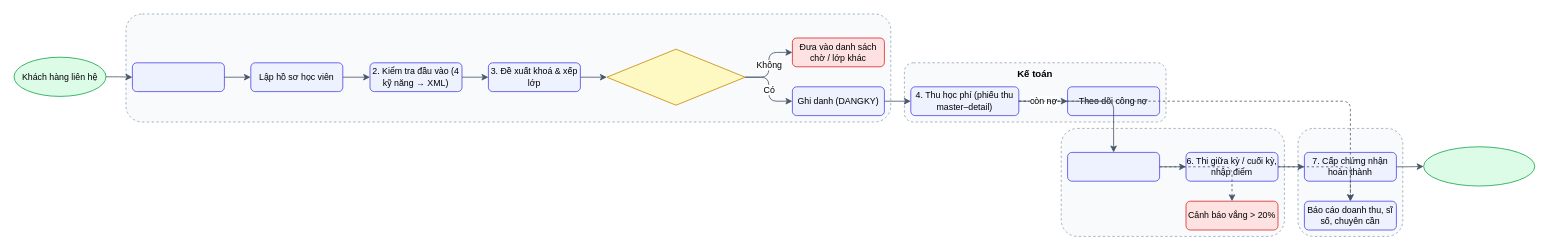
The diagram is 1549 pixels wide and 250 high, and some of its shapes have lost their labels. Each missing label, with the box of its shape:
1. Tư vấn chương trình: (132, 62, 224, 92)
5. Học & điểm danh từng buổi: (1067, 152, 1160, 181)
Giáo viên: (1060, 128, 1284, 236)
Học viên học tiếp khoá kế tiếp: (1423, 146, 1535, 186)
Lớp còn chỗ & đủ tiên quyết?: (606, 48, 745, 105)
Quản lý: (1297, 128, 1403, 236)
Tư vấn – Giáo vụ: (125, 13, 891, 122)
